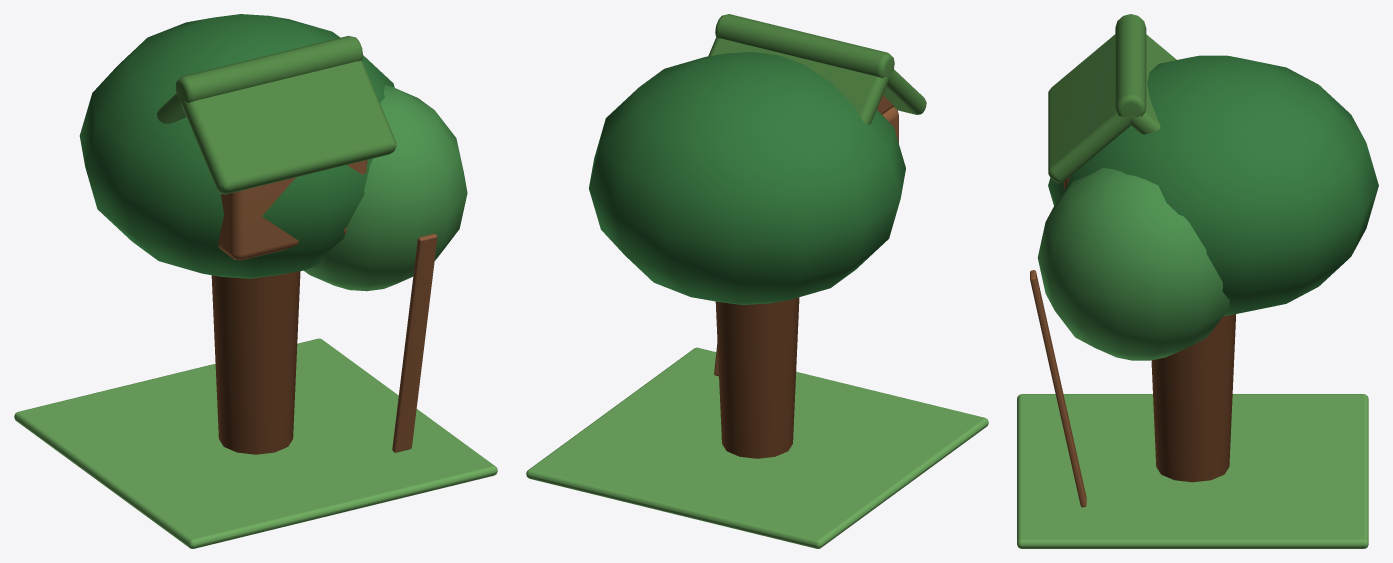
3 renders of one model, left to right at view 1: azimuth 30°, elevation 25°; view 2: azimuth 150°, elevation 25°; view 3: azimuth 270°, elevation 25°, orthographic. The views are drawn at different scales.
Visible parts, largest first — view 1: Cube; view 2: Cube; view 3: Cube.
Part boxes in pixels (box(x1,y1,x2,y2)): Cube: box(14, 14, 497, 548); Cube: box(526, 14, 988, 548); Cube: box(1017, 14, 1378, 548).
Size of the model in its own units: 0.715 by 0.882 by 0.7.
